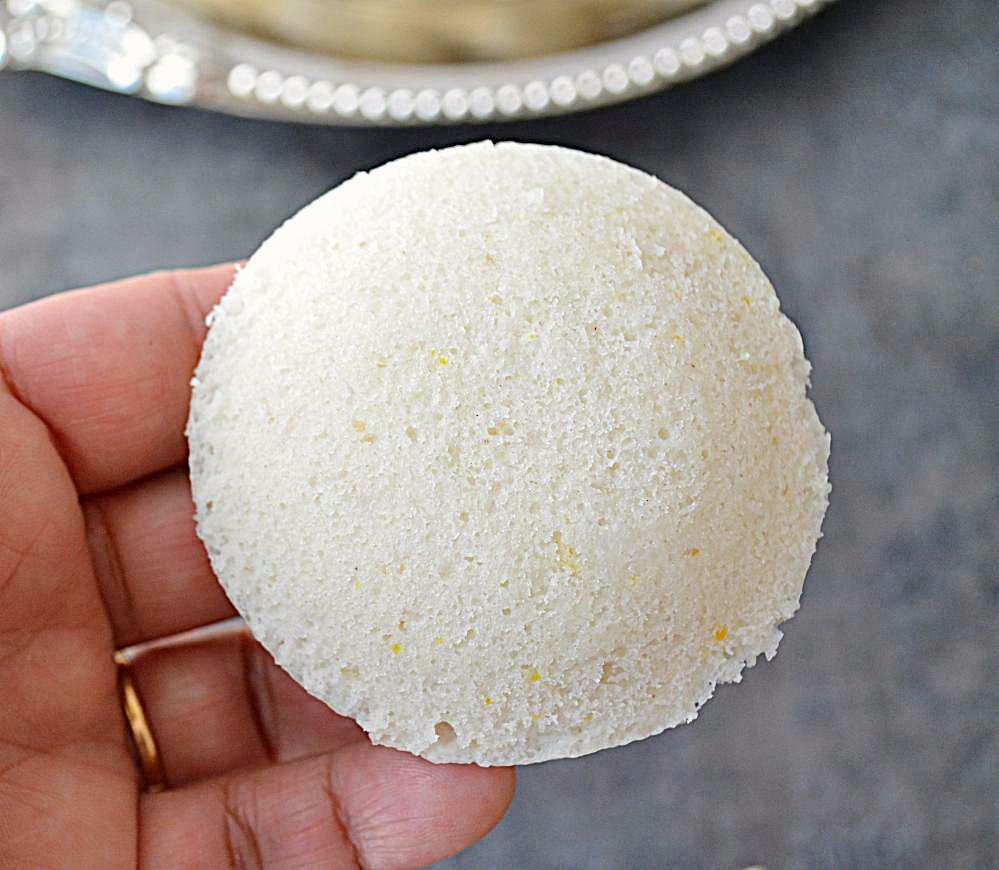Idli: (187, 138, 837, 764)
